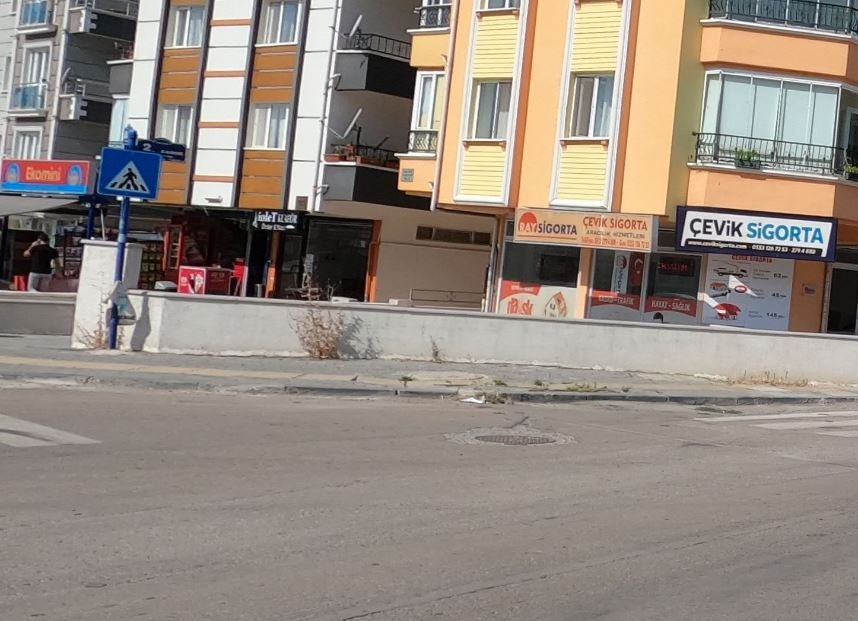Yaya Gecidi: (102, 149, 160, 196)
